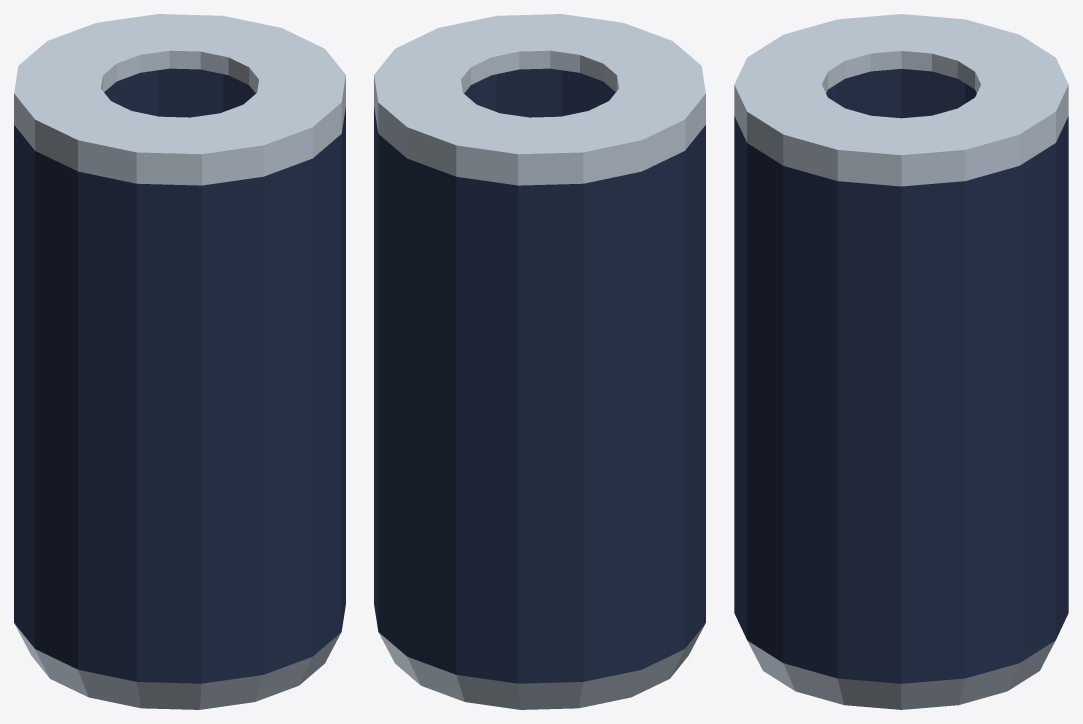
Rendered from TrashBinModel06.fbx.
3 views of the same model, side by side, from view 1: azimuth 30°, elevation 25°; view 2: azimuth 150°, elevation 25°; view 3: azimuth 270°, elevation 25° (orthographic).
Visible parts, largest first — view 1: TrashBin06; view 2: TrashBin06; view 3: TrashBin06.
Boxes of the visible parts, x1=… form: TrashBin06: x1=14, y1=14, x2=345, y2=709; TrashBin06: x1=374, y1=14, x2=705, y2=709; TrashBin06: x1=734, y1=14, x2=1068, y2=709.
Size of the model in its own units: 68.35 by 127 by 68.35.
